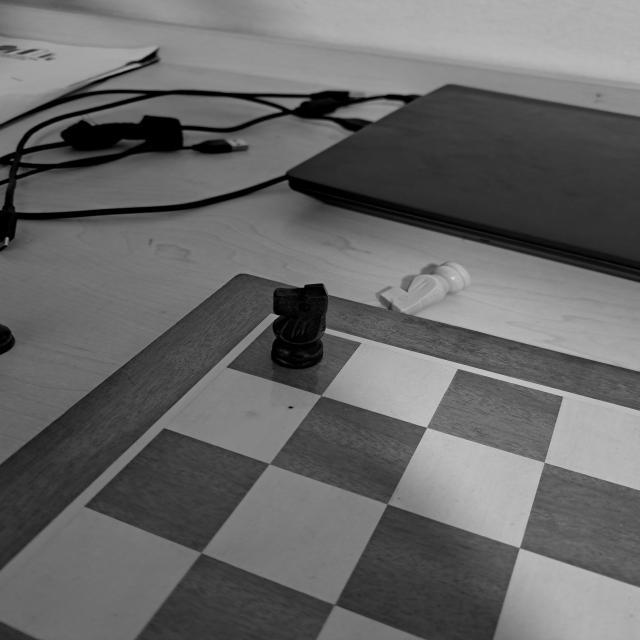chess-table-corners: (247, 300, 302, 338)
